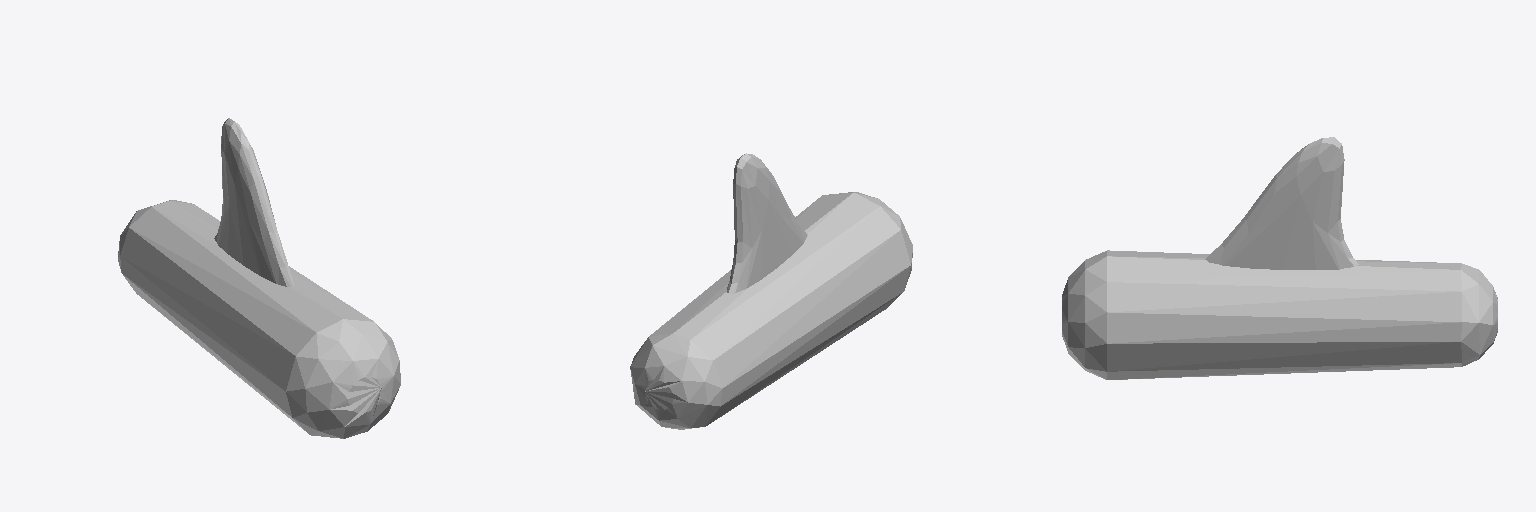
Rendered from boidSegmentMed.obj.
3 renders of one model, left to right at view 1: azimuth 30°, elevation 25°; view 2: azimuth 150°, elevation 25°; view 3: azimuth 270°, elevation 25°, orthographic.
Visible parts, largest first — view 1: Cylinder1_default, Cube2_default; view 2: Cylinder1_default, Cube2_default; view 3: Cylinder1_default, Cube2_default.
Part boxes in pixels (x1,y1,x2,y2): Cylinder1_default: (118,200,400,438); Cube2_default: (214,118,295,286); Cylinder1_default: (630,192,912,429); Cube2_default: (727,153,807,293); Cylinder1_default: (1062,250,1497,379); Cube2_default: (1205,137,1358,269).
Size of the model in its own units: 0.8122 by 1.62 by 2.7.